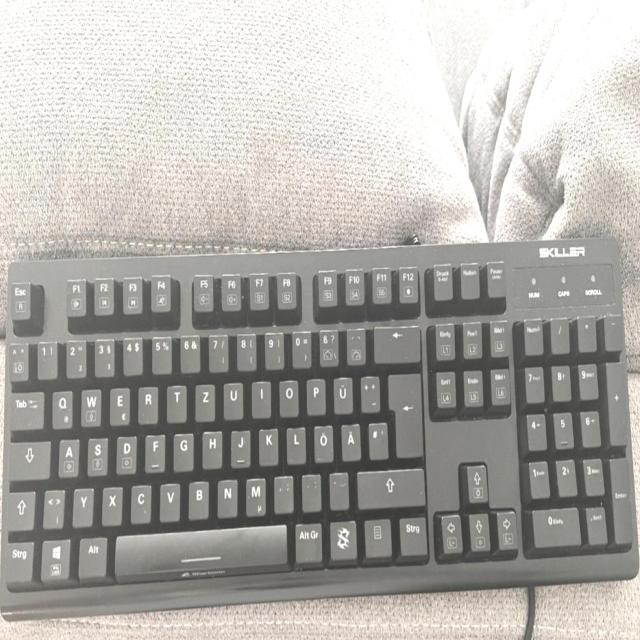0: (289, 326, 311, 367)
1: (35, 336, 57, 378)
2: (63, 335, 86, 376)
3: (93, 334, 115, 376)
4: (121, 332, 143, 374)
5: (150, 331, 172, 373)
6: (179, 331, 200, 371)
7: (206, 329, 228, 371)
8: (234, 329, 256, 369)
9: (262, 327, 283, 368)
a: (56, 434, 79, 476)
accent: (344, 323, 365, 363)
ae: (339, 419, 359, 458)
alt-left: (76, 532, 107, 576)
altgr-right: (292, 518, 322, 560)
b: (186, 476, 209, 517)
c: (128, 480, 151, 520)
caret: (7, 338, 28, 380)
comma: (272, 471, 293, 511)
d: (114, 431, 136, 471)
del: (371, 322, 419, 361)
e: (108, 383, 130, 423)
enter: (386, 368, 422, 457)
f: (143, 430, 164, 470)
g: (171, 428, 193, 469)
h: (200, 426, 222, 467)
hash: (366, 418, 387, 457)
i: (249, 376, 270, 415)
j: (229, 425, 250, 465)
k: (257, 423, 278, 464)
keyboard: (0, 229, 640, 616)
l: (284, 423, 305, 463)
less: (41, 485, 64, 527)
m: (243, 473, 265, 515)
minus: (327, 468, 348, 508)
n: (215, 475, 237, 515)
o: (277, 375, 298, 415)
oe: (312, 421, 333, 461)
p: (304, 374, 325, 413)
plus: (358, 371, 379, 411)
point: (300, 470, 321, 510)
q: (50, 386, 72, 426)
r: (136, 381, 157, 422)
s: (85, 433, 107, 473)
shift-left: (4, 487, 34, 529)
shift-lock: (6, 438, 50, 478)
shift-right: (355, 465, 424, 506)
space: (111, 522, 287, 574)
ss: (317, 324, 338, 365)
strg-left: (3, 537, 33, 581)
strg-right: (396, 512, 427, 555)
t: (165, 381, 186, 420)
tab: (7, 387, 43, 428)
u: (221, 378, 243, 418)
ue: (331, 372, 352, 412)
v: (157, 478, 180, 519)
w: (78, 383, 101, 425)
x: (100, 482, 122, 523)
y: (70, 484, 93, 524)
z: (193, 379, 215, 419)
